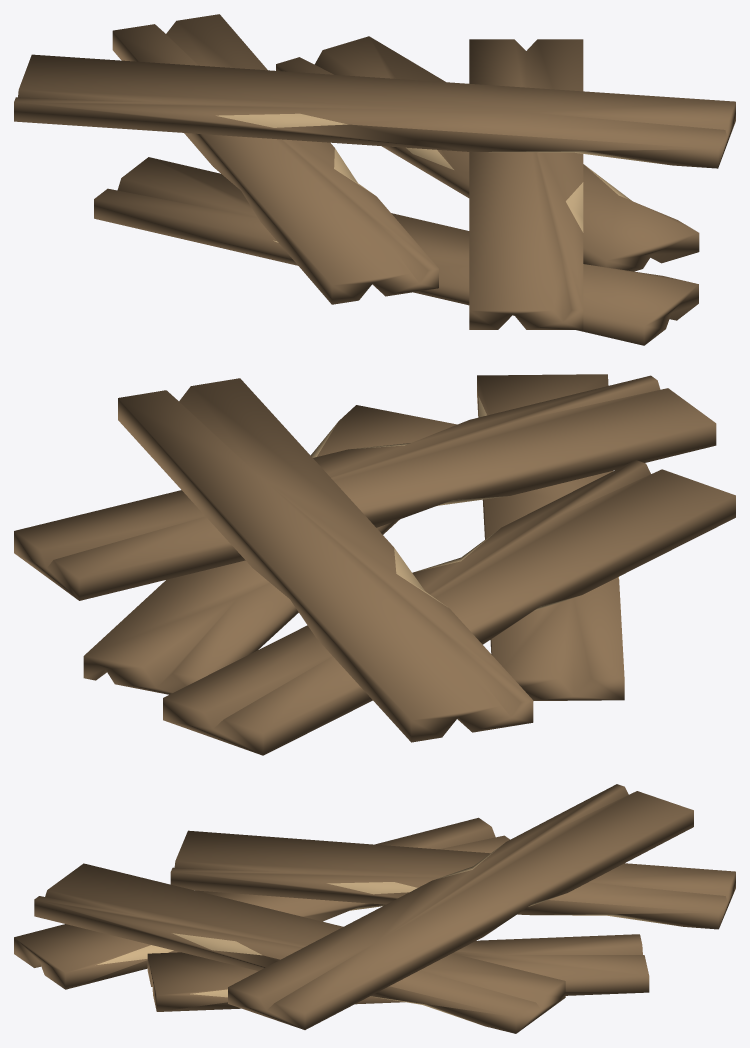
The model's file is rpgpp_ag_planks_01b.fbx.
3 views of the same model, one above another, from view 1: azimuth 30°, elevation 25°; view 2: azimuth 150°, elevation 25°; view 3: azimuth 270°, elevation 25° (orthographic). The views are drawn at different scales.
Parts seen in each view (by area): view 1: rpgpp_ag_planks_01b; view 2: rpgpp_ag_planks_01b; view 3: rpgpp_ag_planks_01b.
Part boxes in pixels (x1=…): rpgpp_ag_planks_01b: x1=14, y1=14, x2=735, y2=345; rpgpp_ag_planks_01b: x1=14, y1=374, x2=735, y2=755; rpgpp_ag_planks_01b: x1=14, y1=784, x2=735, y2=1033.
Size of the model in its own units: 1.76 by 0.18 by 2.34.
